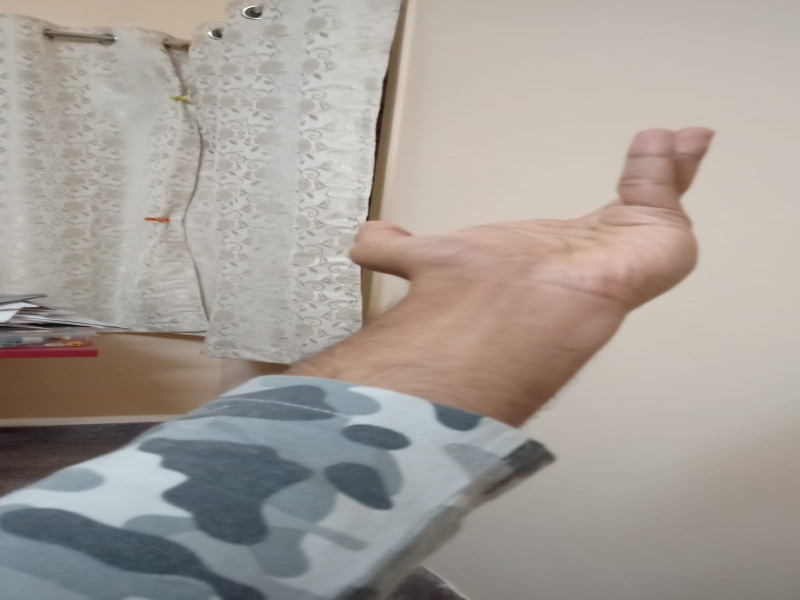Hand: (339, 119, 728, 321)
